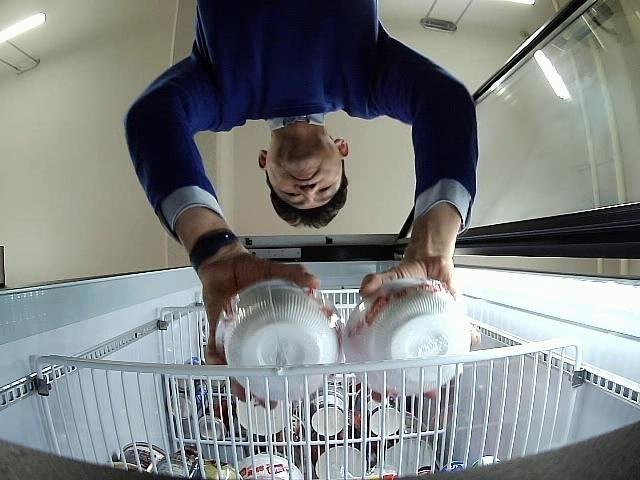09_yukGaeJang: (216, 281, 342, 401), (343, 277, 471, 395)
